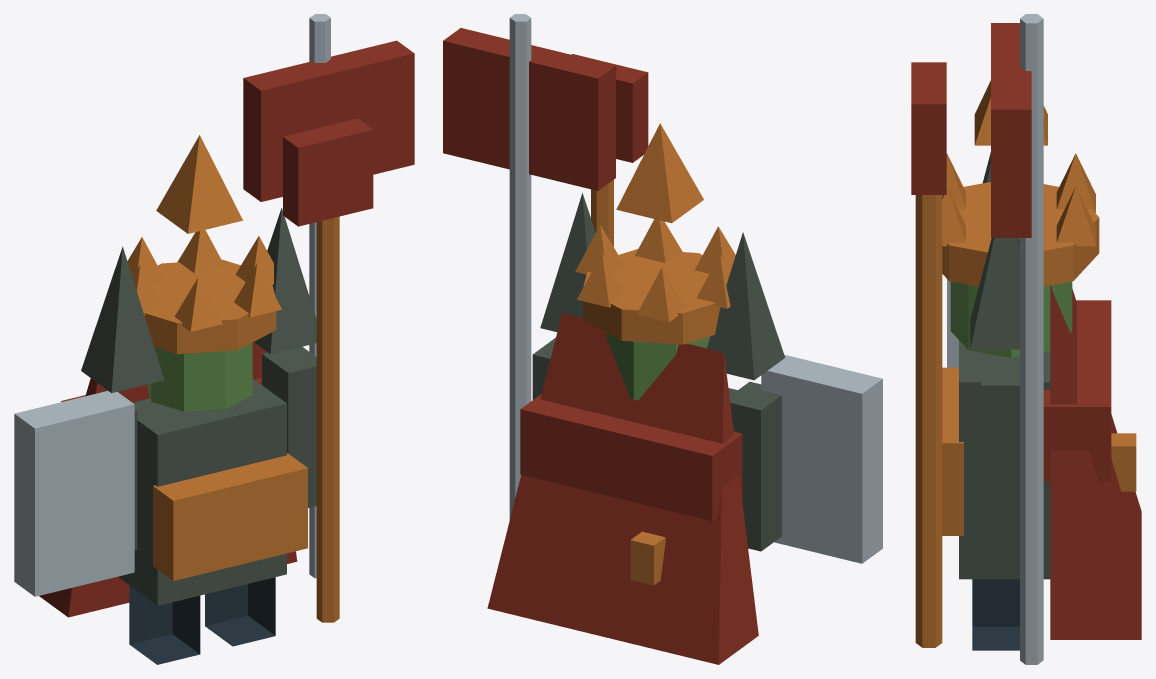
The model's file is healer.obj.
3 renders of one model, left to right at view 1: azimuth 30°, elevation 25°; view 2: azimuth 150°, elevation 25°; view 3: azimuth 270°, elevation 25°, orthographic. The views are drawn at different scales.
Parts seen in each view (by area): view 1: hero; view 2: hero; view 3: hero.
Part boxes in pixels (<box>): hero: <box>14,14,414,664</box>; hero: <box>443,14,882,664</box>; hero: <box>911,14,1141,664</box>.
Bounding box in the file's own units: 1.81 × 2.52 × 0.7828.
